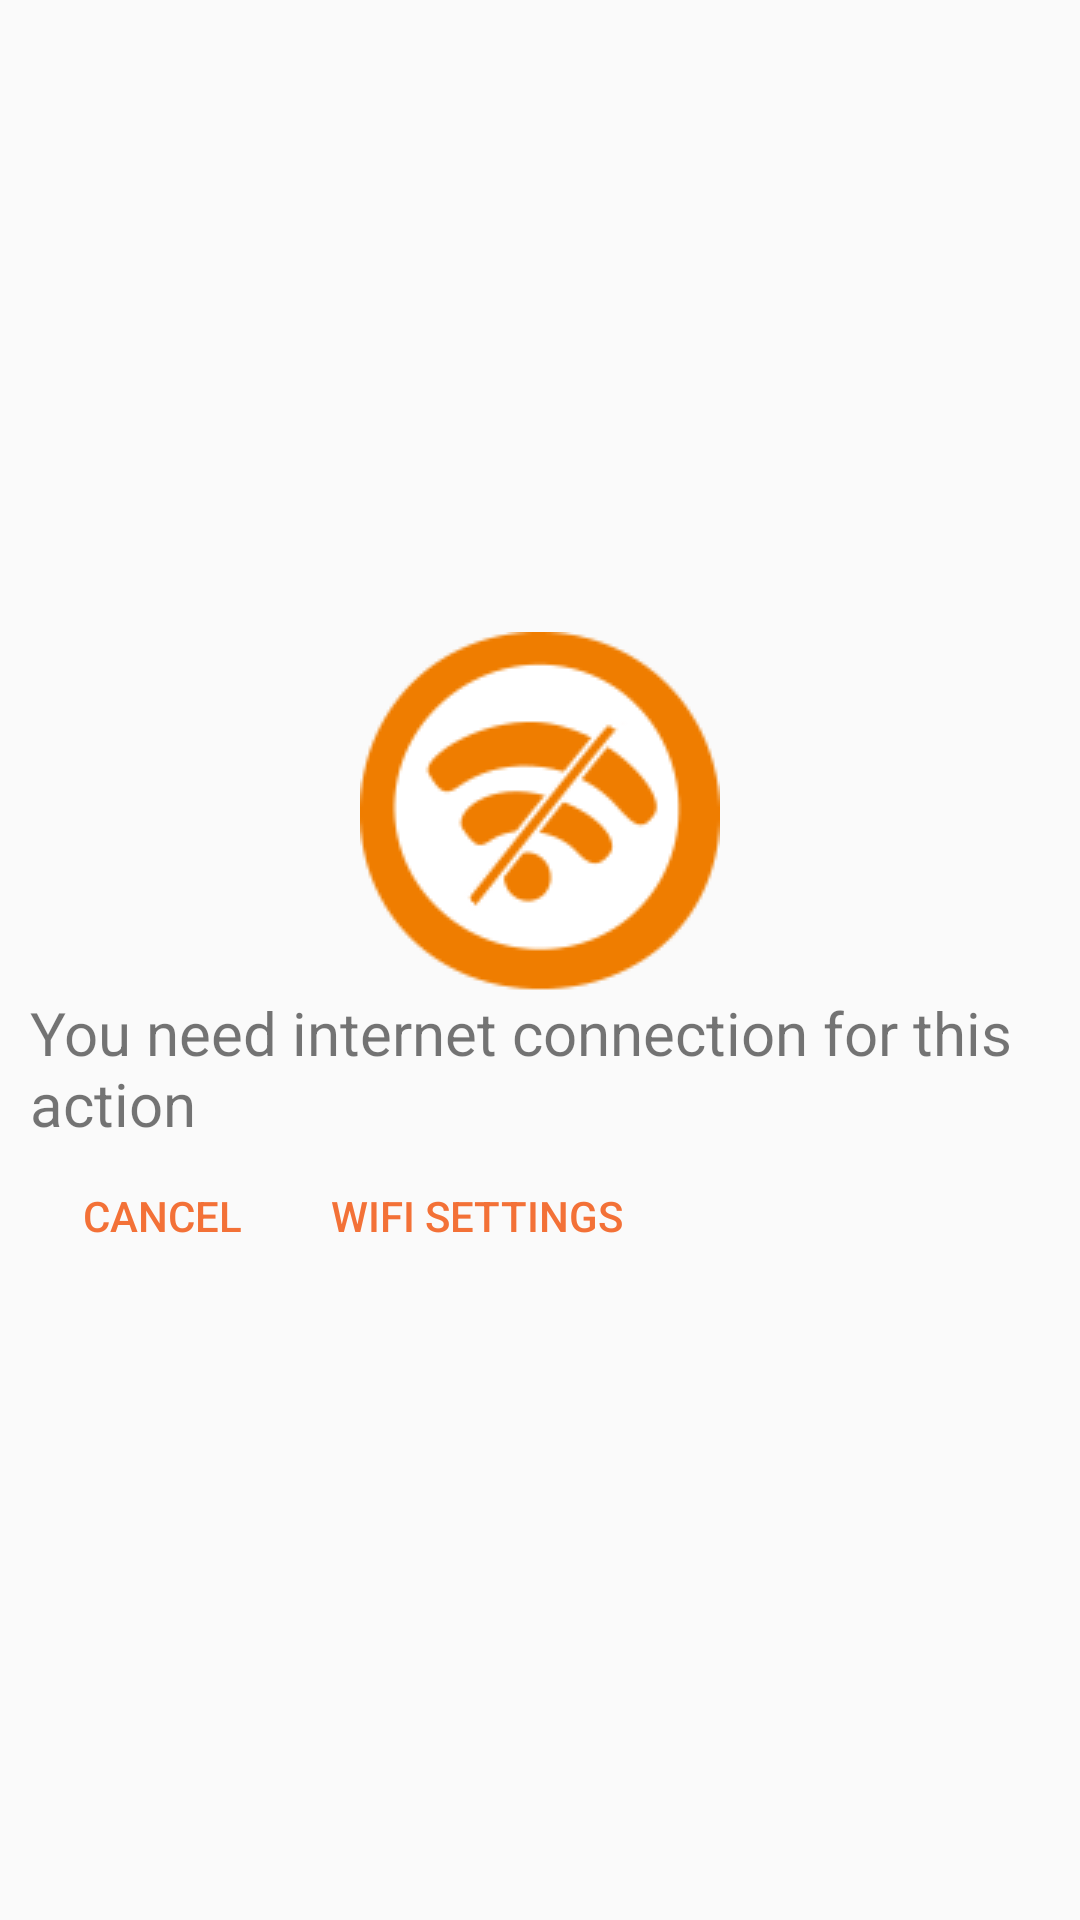

Icon bounding boxes for this 1080px x 1920px phone screenshot, format (x1=x1, y1=y1, x2=x2, y2=y2):
no internet: (x1=360, y1=632, x2=720, y2=990)
